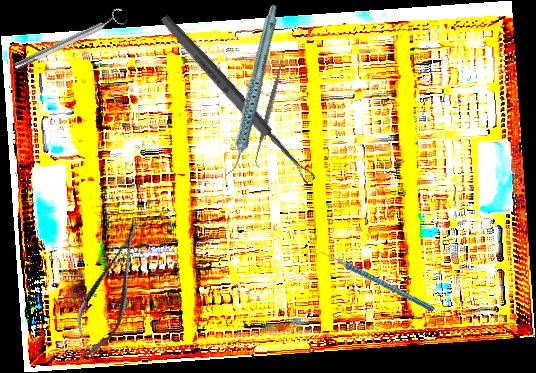Chopper: (311, 219, 435, 345)
Fixation Ring: (10, 6, 129, 75)
Handpiece: (191, 2, 312, 179)
Micro Scissor: (62, 213, 160, 366)
Spatula Surgical: (247, 50, 292, 169)
Surgical Spoon: (157, 12, 318, 187)
